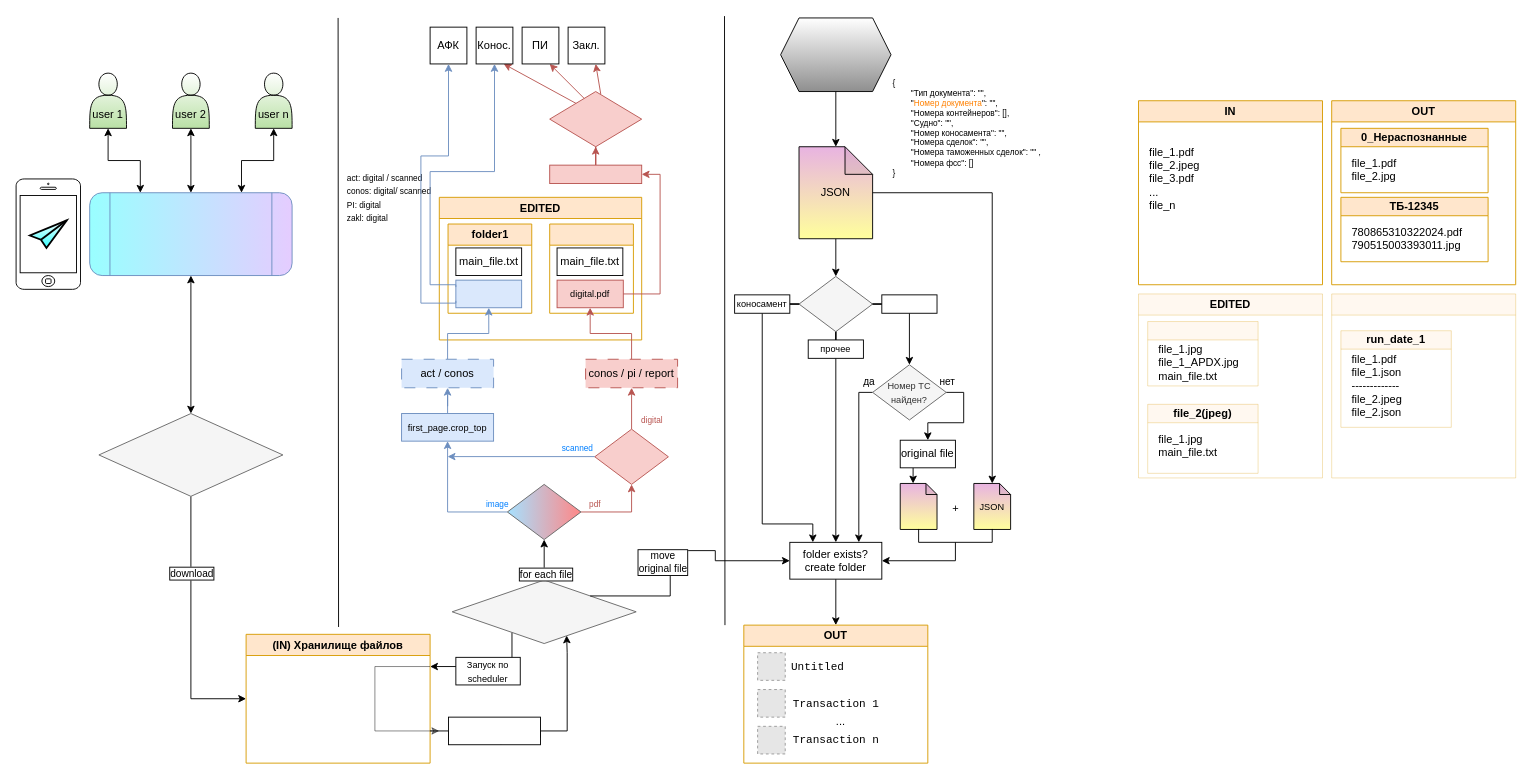
The diagram is 1532 pixels wide and 779 high, and some of its shapes have lost their labels. Grey dashed boxes stand in for pictures. The box of each missing label's shape, as (x1, y1, x2, y2) in pixels:
@BT_certificate_bot: (89, 192, 292, 276)
appendix JSON: (899, 483, 937, 529)
document type TEXT-classifier: (549, 91, 642, 147)
extract text: (549, 164, 642, 184)
file_1(pdf): (1147, 321, 1258, 386)
first_page. crop_top: (455, 279, 522, 308)
folderN: (549, 223, 633, 313)
is_pdf?: (506, 483, 581, 540)
is_scanned?: (594, 428, 668, 484)
logs: (1331, 293, 1516, 478)
run_chat: (780, 17, 891, 92)
server process 1: BT_certificate_bot: (98, 413, 283, 496)
server process 2: BT_certificate_engine: (451, 579, 636, 644)
акт: (881, 294, 937, 313)
Список файлов в момент вызова: (448, 716, 540, 745)
Тип документа: (798, 276, 873, 332)
